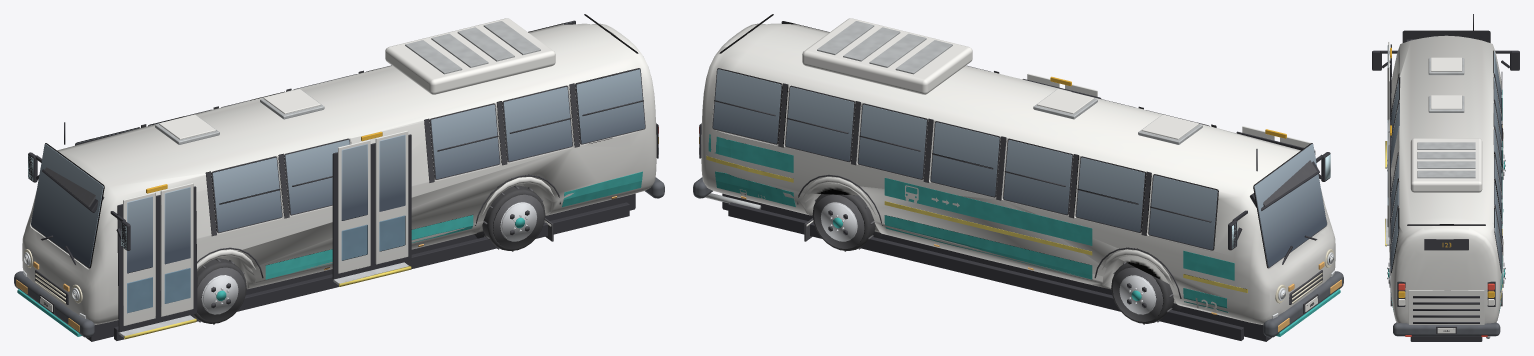
File: Rush_CityBus.fbx
The picture shows the model from 3 angles, left to right: view 1: azimuth 30°, elevation 25°; view 2: azimuth 150°, elevation 25°; view 3: azimuth 270°, elevation 25°; orthographic projection. The views are drawn at different scales.
Visible parts, largest first — view 1: Rush_CityBus; view 2: Rush_CityBus; view 3: Rush_CityBus.
Part boxes in pixels (x1,y1,x2,y2): Rush_CityBus: (14,14,664,341); Rush_CityBus: (693,14,1343,341); Rush_CityBus: (1372,14,1519,341).
Size of the model in its own units: 11.23 by 3.49 by 3.3.
Materials: 1 (1 with a texture image).
